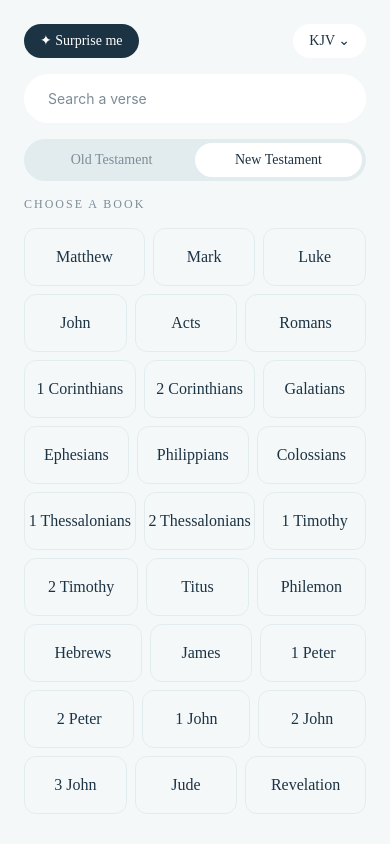
invalid search shows not-found feedback and does not close
The width and height of the screenshot is (390, 844).
Type "Nowhere 9:9" into the field with placeholder "Search a verse" at point(195, 98), box [24,74,366,123]
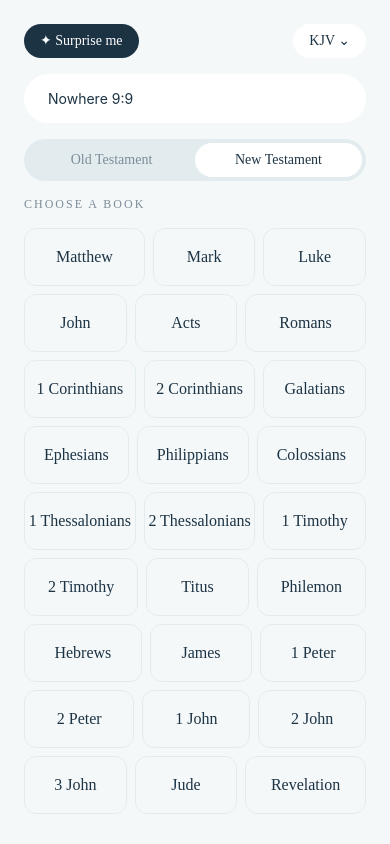
Press Enter in the field with placeholder "Search a verse", box [24,74,366,123]
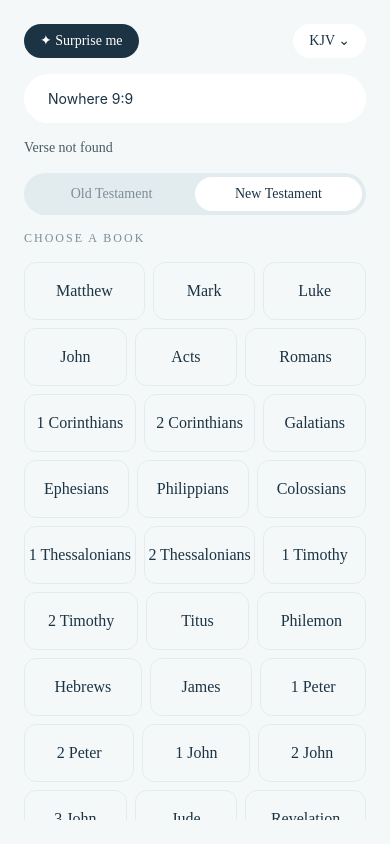
Now the text "Verse not found" is shown, box [24,140,113,155]
